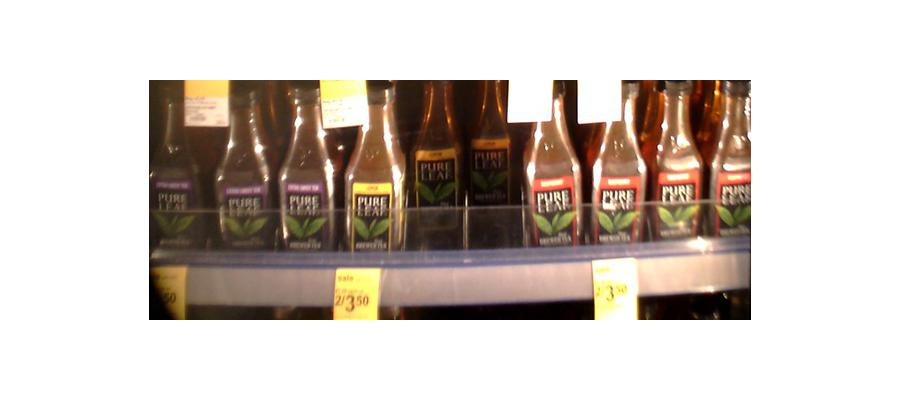bottle: (343, 81, 405, 255), (216, 83, 275, 253), (277, 83, 334, 251), (526, 90, 586, 249), (148, 84, 203, 251), (589, 91, 646, 248), (649, 80, 703, 245), (410, 77, 459, 229), (710, 70, 754, 236), (468, 75, 511, 212)
